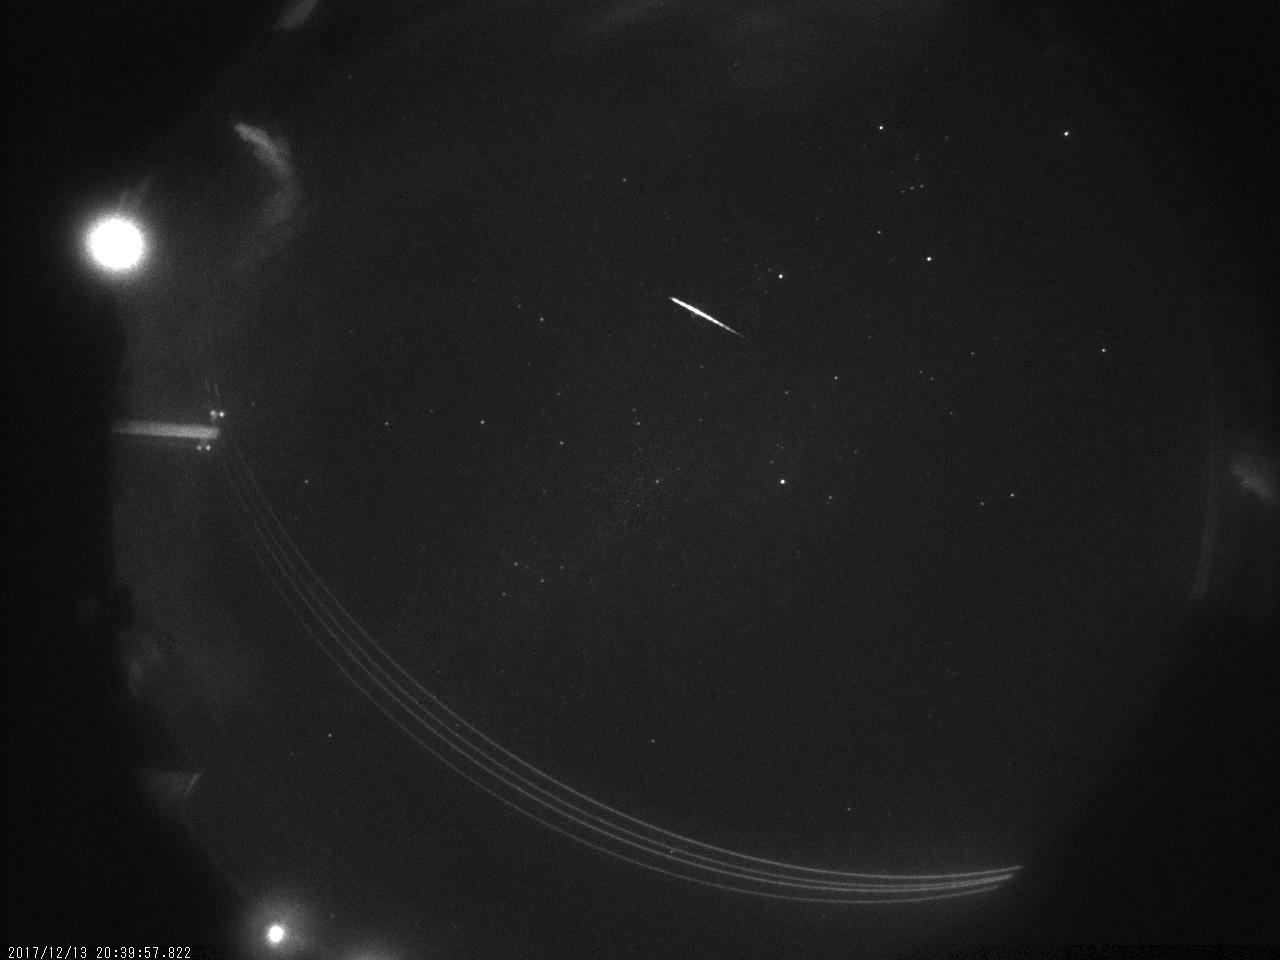meteor: (658, 289, 744, 346)
